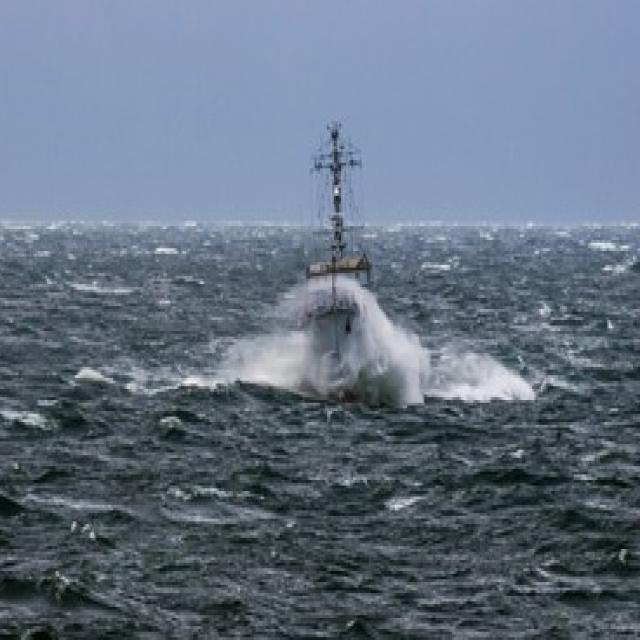fishing boat: (275, 125, 407, 402)
